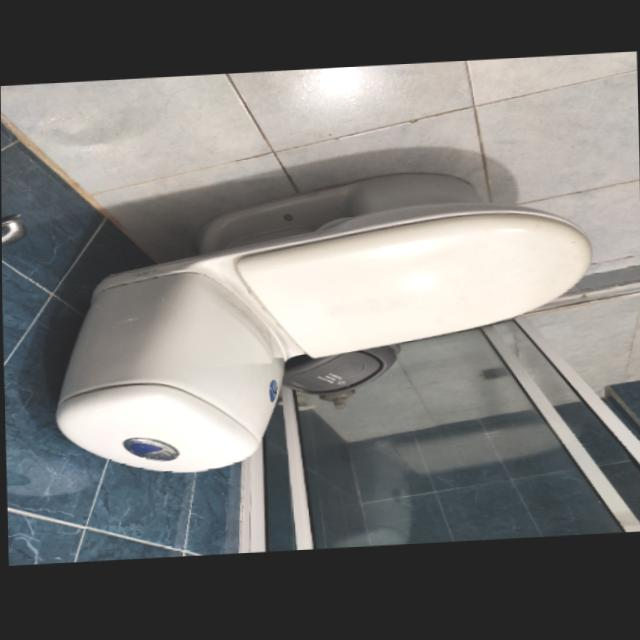toilet: (50, 167, 597, 481)
